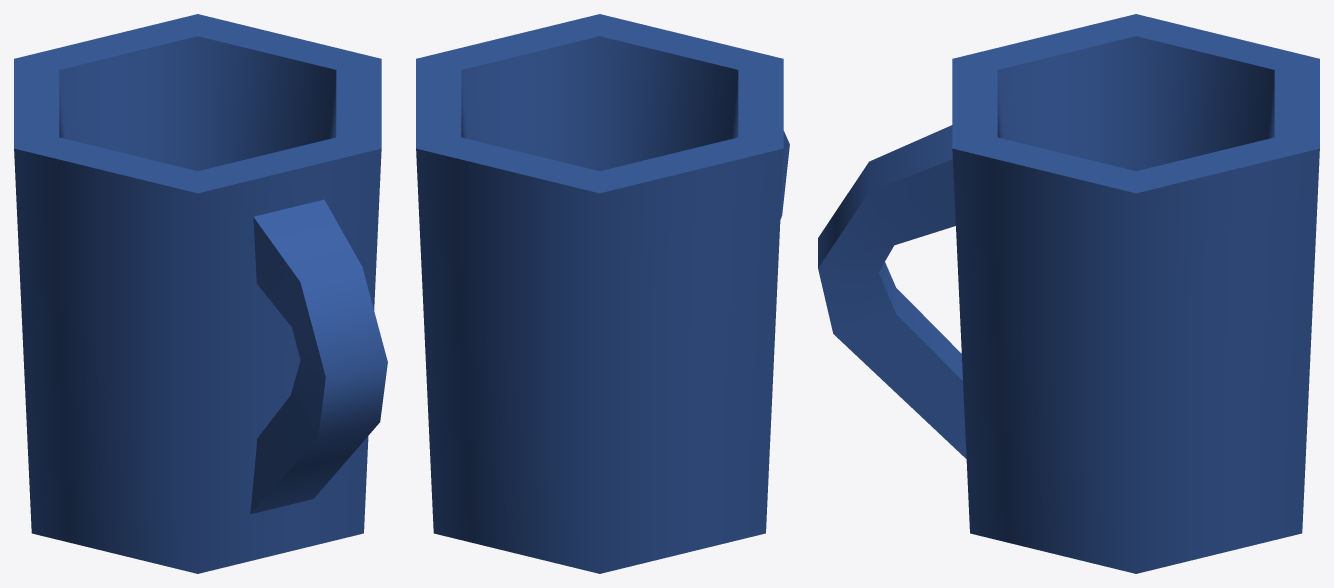
The model's file is SM_Cup_01.fbx.
3 renders of one model, left to right at view 1: azimuth 30°, elevation 25°; view 2: azimuth 150°, elevation 25°; view 3: azimuth 270°, elevation 25°, orthographic.
Visible parts, largest first — view 1: SM_Cup_01; view 2: SM_Cup_01; view 3: SM_Cup_01.
Part boxes in pixels (x1=…): SM_Cup_01: x1=14, y1=14, x2=387, y2=573; SM_Cup_01: x1=416, y1=14, x2=789, y2=573; SM_Cup_01: x1=818, y1=14, x2=1319, y2=573.
Bounding box in the file's own units: 16.51 × 16.71 × 19.53.
